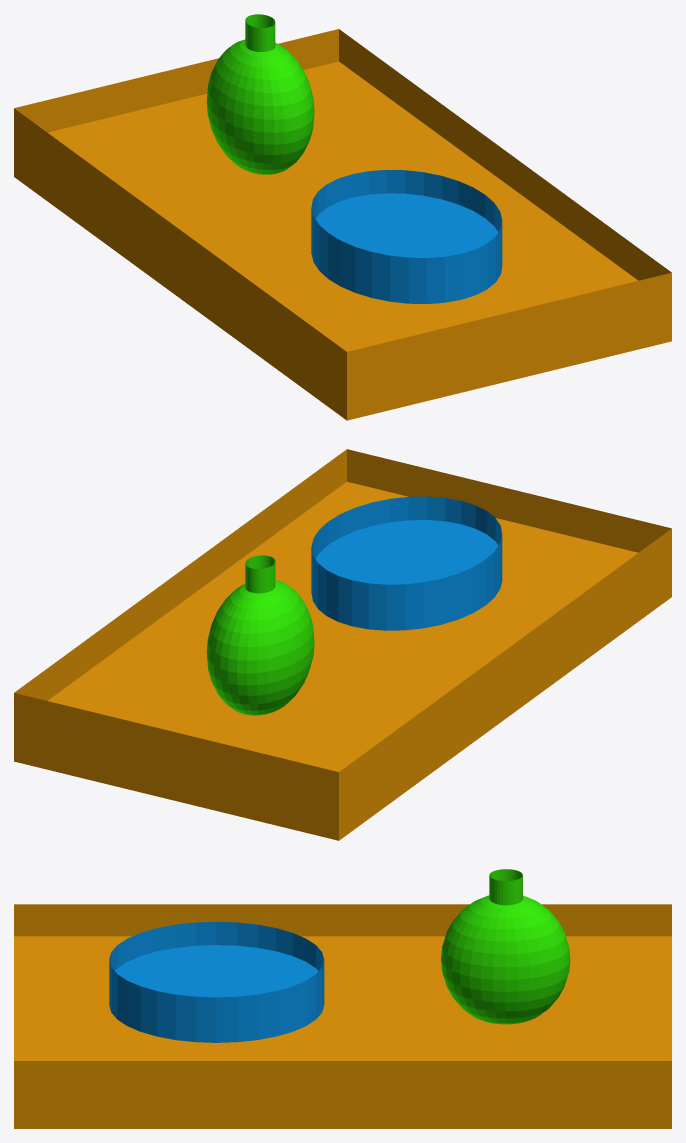
Rendered from Lab1.fbx.
The picture shows the model from 3 angles, top to bottom: view 1: azimuth 30°, elevation 25°; view 2: azimuth 150°, elevation 25°; view 3: azimuth 270°, elevation 25°; orthographic projection.
Parts seen in each view (by area): view 1: Cube.003; view 2: Cube.003; view 3: Cube.003.
Boxes of the visible parts, bbox=[...] form: Cube.003: bbox=[14, 14, 671, 420]; Cube.003: bbox=[14, 449, 671, 840]; Cube.003: bbox=[14, 869, 671, 1128].
Size of the model in its own units: 49.09 by 25.62 by 87.11.
